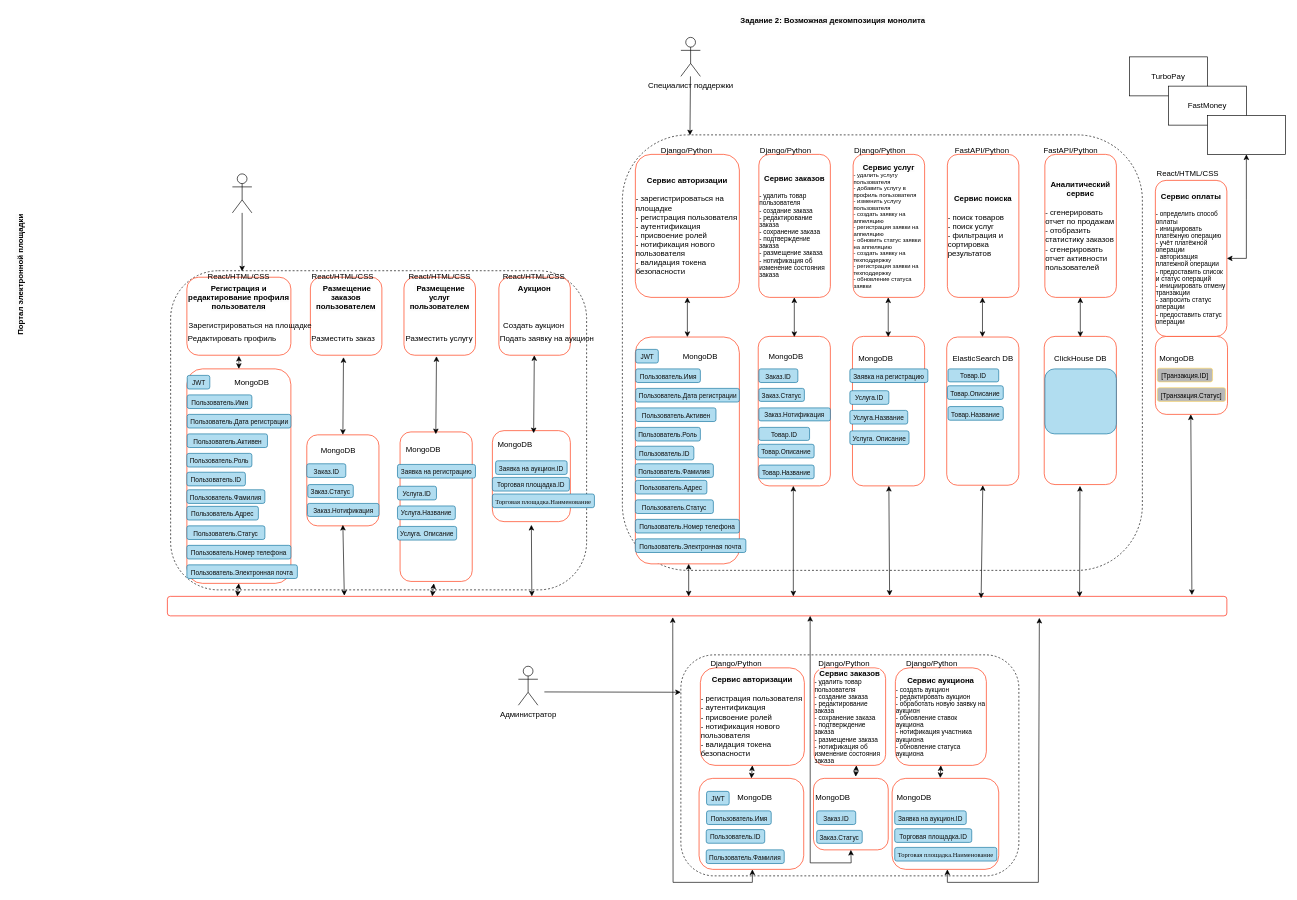
This 1297x900 diagram has some shape labels left out. Each missing label, with the centre of its shape:
Клиент: [242,193]
Схема может быть "динамической" в зависимости от потребностей аналитиков: [1080,401]
Шина данных (Kafka | RabbitMQ | SAP PI): [697,606]
Яндекс.Pay: [1246,134]
